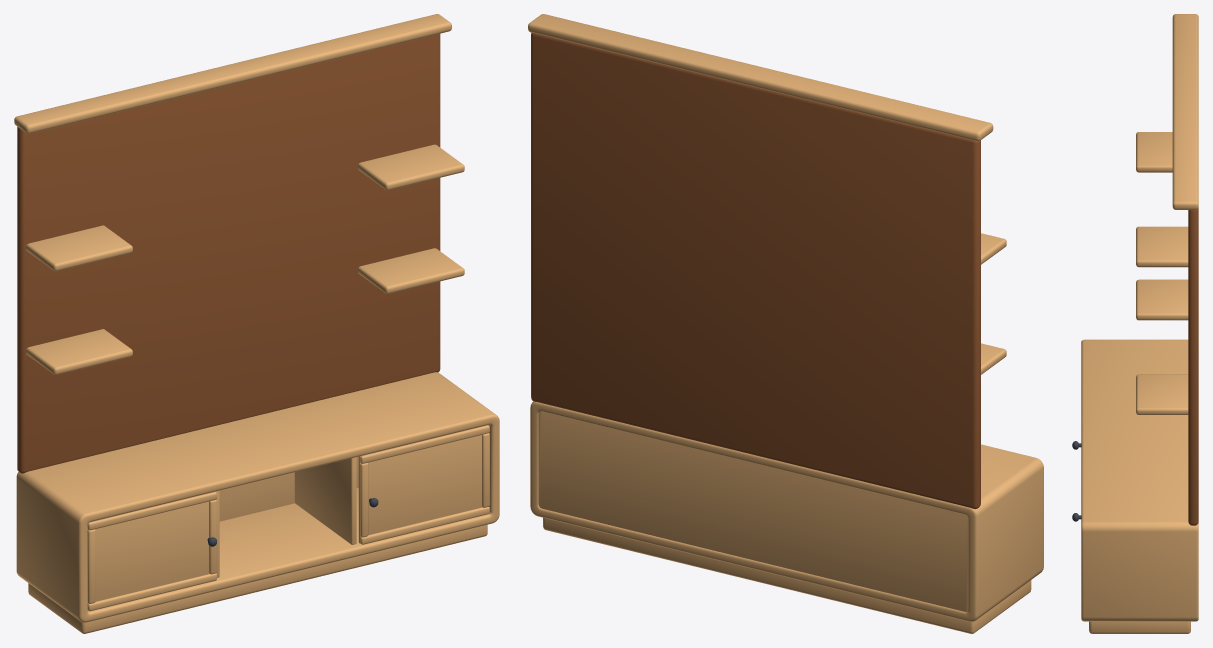
File: rack_com_painel_madeira.glb
3 renders of one model, left to right at view 1: azimuth 30°, elevation 25°; view 2: azimuth 150°, elevation 25°; view 3: azimuth 270°, elevation 25°, orthographic. The views are drawn at different scales.
Parts seen in each view (by area): view 1: rack_com_painel_madeira, porta_2, porta_1; view 2: rack_com_painel_madeira; view 3: rack_com_painel_madeira.
Part boxes in pixels (x1,y1,x2,y2): rack_com_painel_madeira: (14,14,499,633); porta_2: (358,425,489,544); porta_1: (87,491,216,611); rack_com_painel_madeira: (528,14,1043,633); rack_com_painel_madeira: (1081,14,1198,633).
Bounding box in the file's own units: 1.72 × 1.85 × 0.4846.
1 material, 1 textured.
